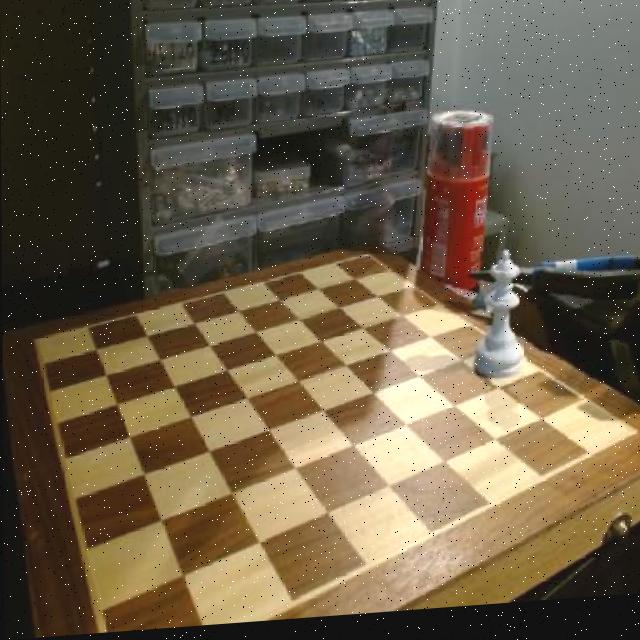white-pawn: (471, 256, 526, 390)
